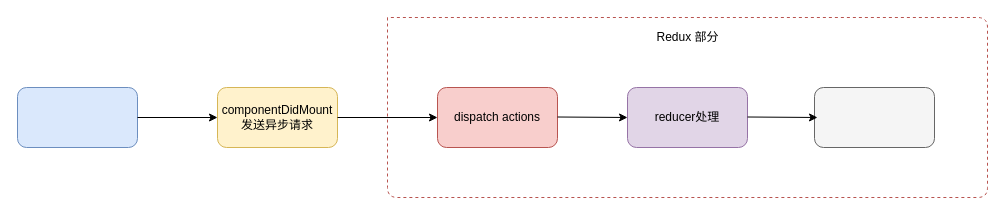
The diagram is 1006 pixels wide and 216 high, and some of its shapes have lost their labels. The centre of each missing label's shape, as x and y in pixels:
改变 store 的 state: (874,117)
组件Component: (77,117)
